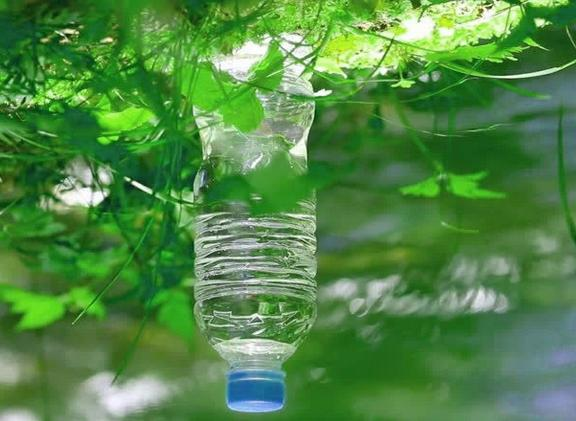Plastic: (186, 14, 320, 416)
